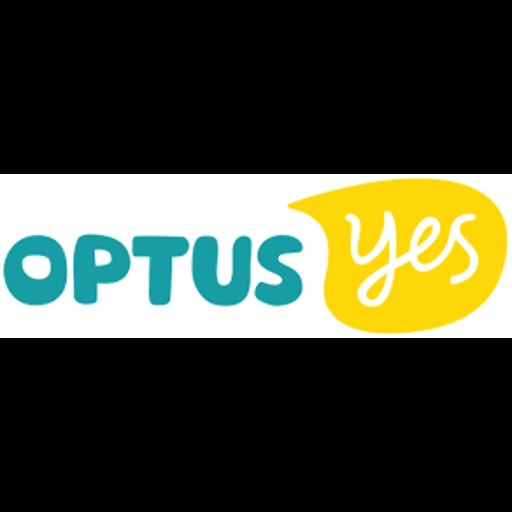Singtel Optus: (0, 174, 512, 338)
